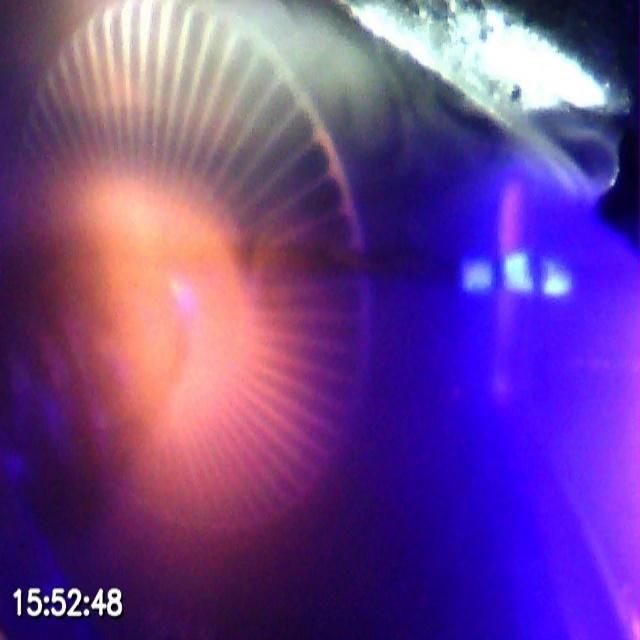white-dots: (462, 249, 574, 300)
